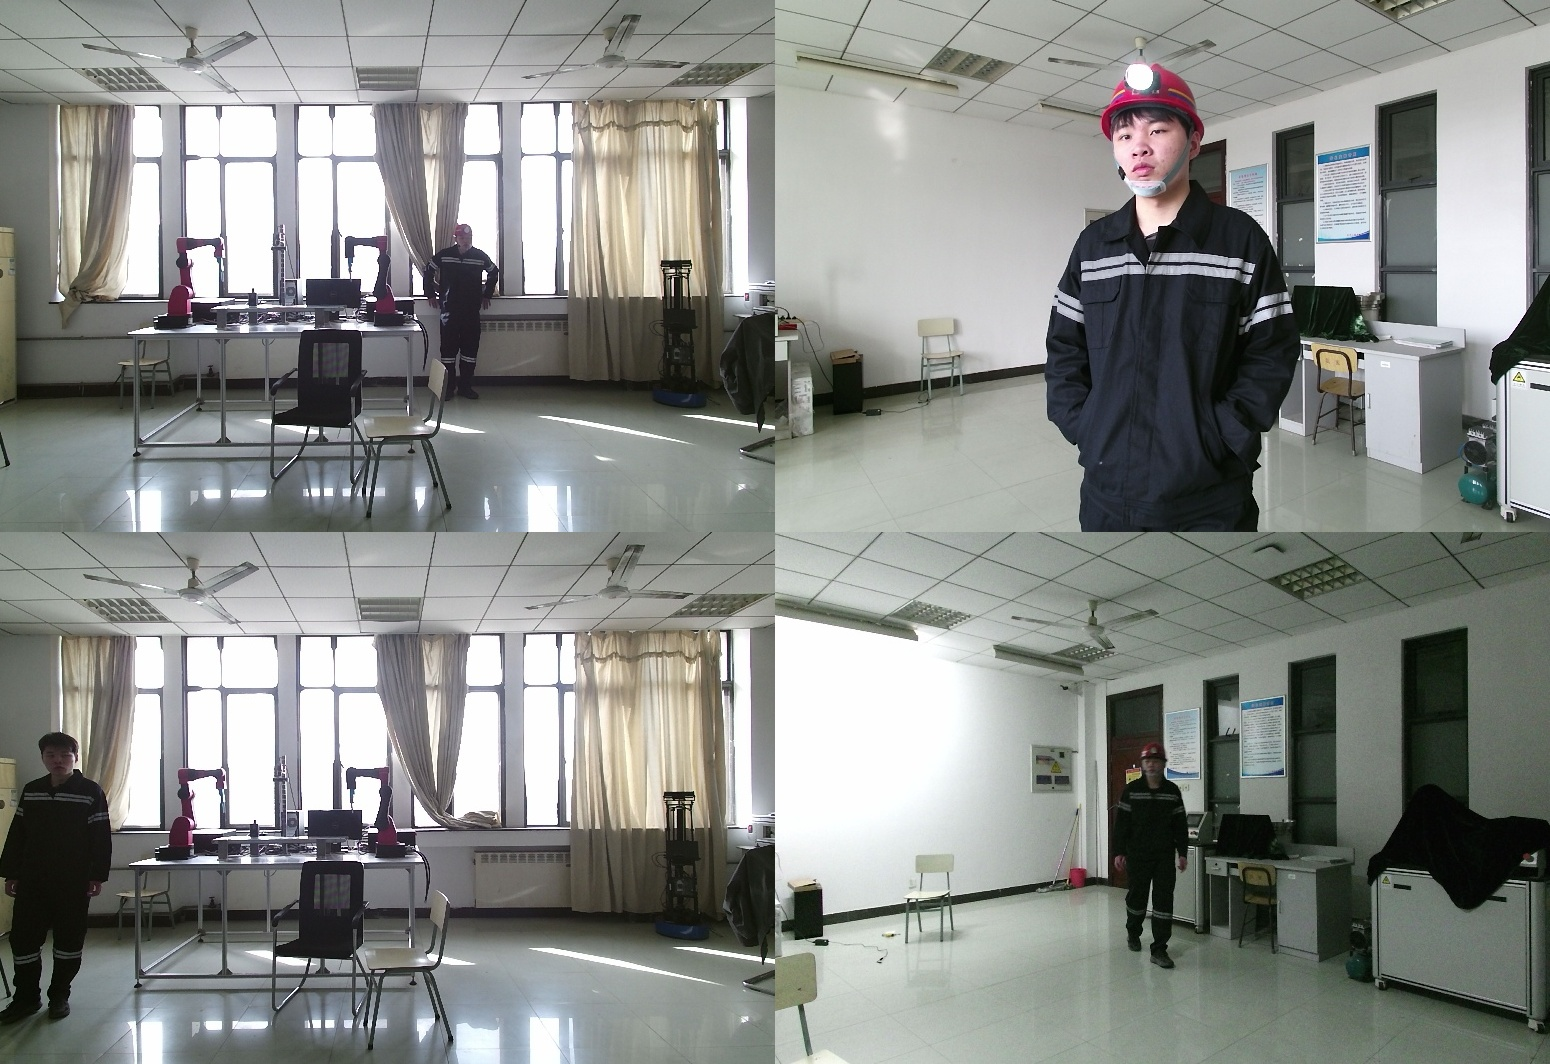person: (1047, 63, 1325, 532), (3, 732, 118, 1019), (1111, 747, 1195, 967), (427, 224, 500, 405)
